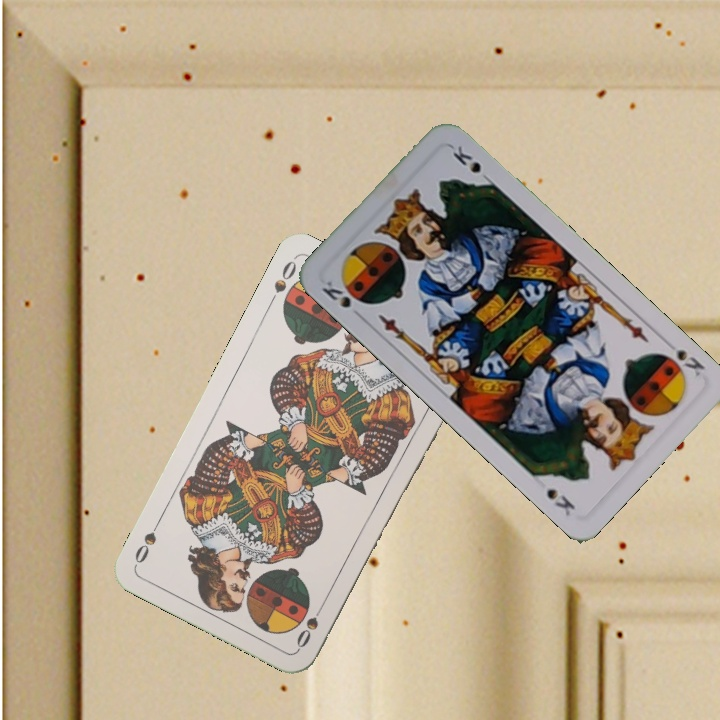SK: (660, 335, 708, 379), (317, 276, 354, 311)
SO: (292, 597, 329, 651), (264, 256, 300, 309)
